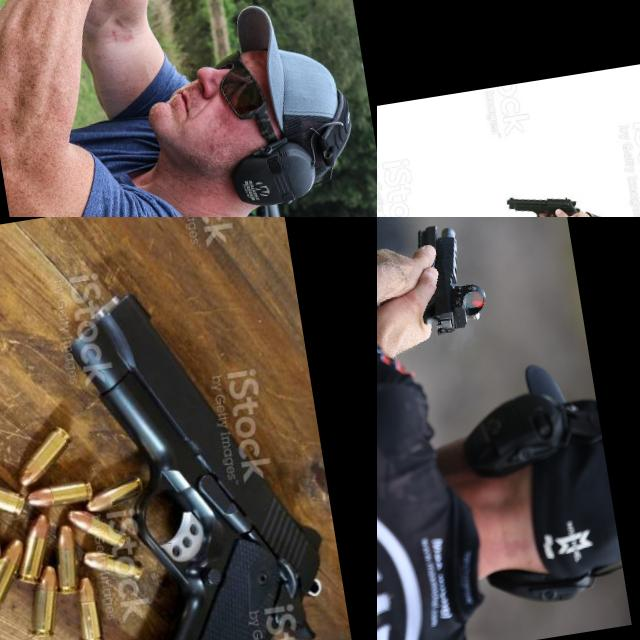handgun: (52, 263, 362, 640), (406, 217, 493, 342), (118, 0, 192, 67), (503, 185, 583, 217)
